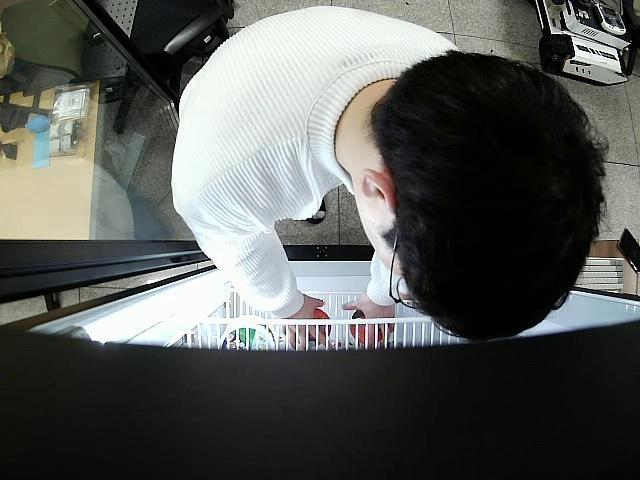02_shinRamen_S: (297, 305, 332, 350), (350, 310, 390, 343)
